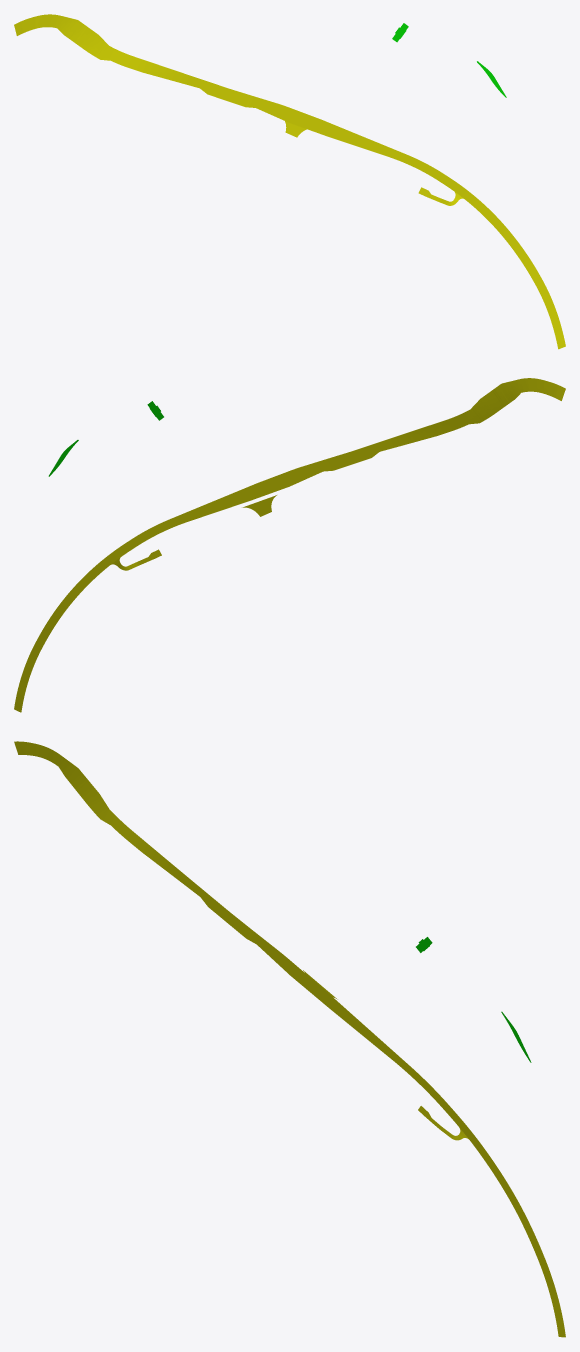
Rendered from Model_1c-processed.glb.
3 renders of one model, top to bottom at view 1: azimuth 30°, elevation 25°; view 2: azimuth 150°, elevation 25°; view 3: azimuth 330°, elevation 25°, orthographic.
Parts seen in each view (by area): view 1: rootNode; view 2: rootNode; view 3: rootNode.
Boxes of the visible parts, left/top/right/bottom form: rootNode: left=14, top=14, right=565, bottom=349; rootNode: left=14, top=378, right=565, bottom=712; rootNode: left=14, top=741, right=565, bottom=1337.
Bounding box in the file's own units: 526 × 419 × 20.87.
Materials: 1 (1 with a texture image).
